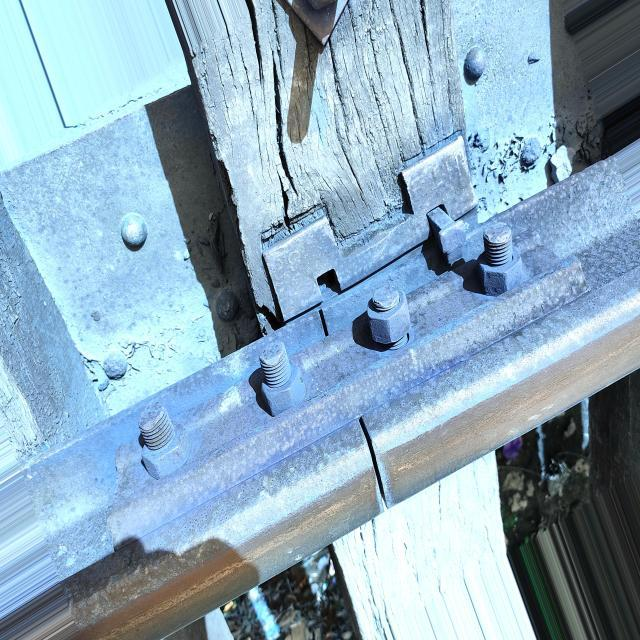Good Fasteners: (428, 207, 471, 265)
Good Joint: (21, 156, 640, 637)
Missing Dogscrew: (317, 270, 341, 297)
